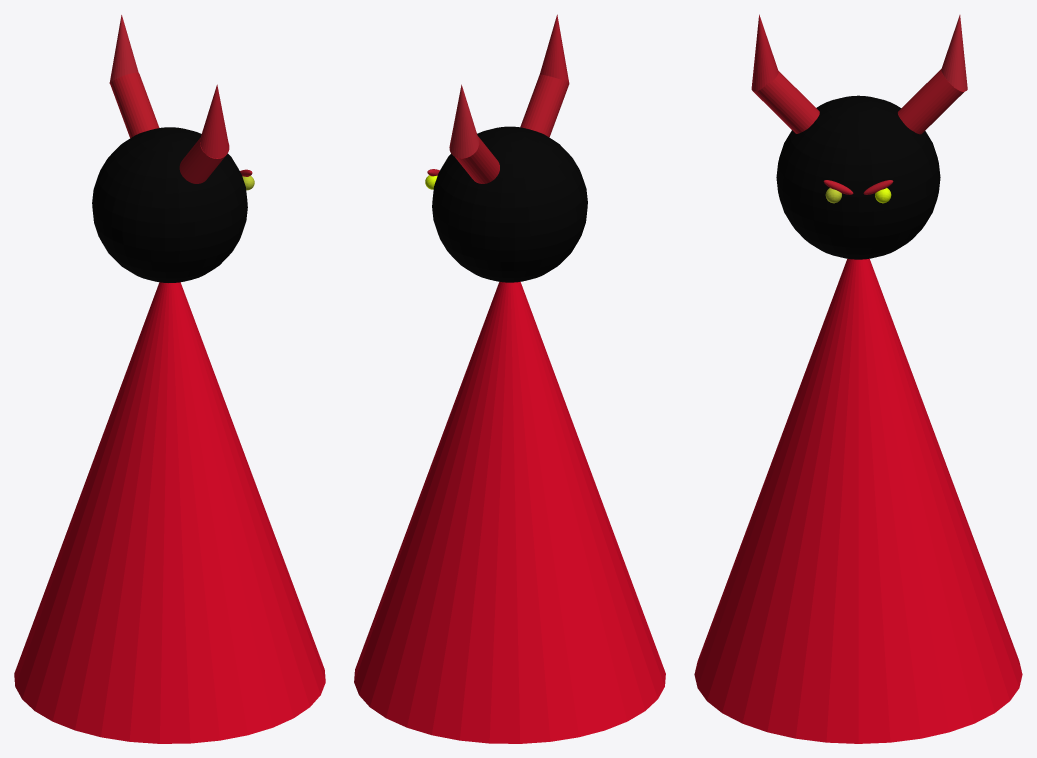
3 renders of one model, left to right at view 1: azimuth 30°, elevation 25°; view 2: azimuth 150°, elevation 25°; view 3: azimuth 270°, elevation 25°, orthographic. The views are drawn at different scales.
Parts seen in each view (by area): view 1: Cone, Sphere, Cylinder, Cone.002, Cylinder.001, Cone.001; view 2: Cone, Sphere, Cylinder.001, Cone.001, Cylinder, Cone.002; view 3: Cone, Sphere, Cylinder, Cylinder.001, Cone.002, Cone.001.
Part boxes in pixels (bbox=[...]): Cone: bbox=[14, 282, 325, 743]; Sphere: bbox=[92, 127, 247, 282]; Cylinder: bbox=[110, 72, 159, 138]; Cone.002: bbox=[199, 84, 229, 158]; Cylinder.001: bbox=[179, 138, 229, 183]; Cone.001: bbox=[109, 15, 138, 83]; Cone: bbox=[354, 282, 665, 743]; Sphere: bbox=[432, 126, 587, 282]; Cylinder.001: bbox=[520, 74, 569, 137]; Cone.001: bbox=[449, 84, 478, 158]; Cylinder: bbox=[455, 136, 499, 183]; Cone.002: bbox=[540, 14, 568, 81]; Cone: bbox=[694, 258, 1022, 743]; Sphere: bbox=[776, 95, 940, 259]; Cylinder: bbox=[898, 69, 964, 134]; Cylinder.001: bbox=[753, 71, 819, 133]; Cone.002: bbox=[751, 14, 778, 91]; Cone.001: bbox=[941, 15, 967, 91].
Size of the model in its own units: 400 by 889 by 400.
